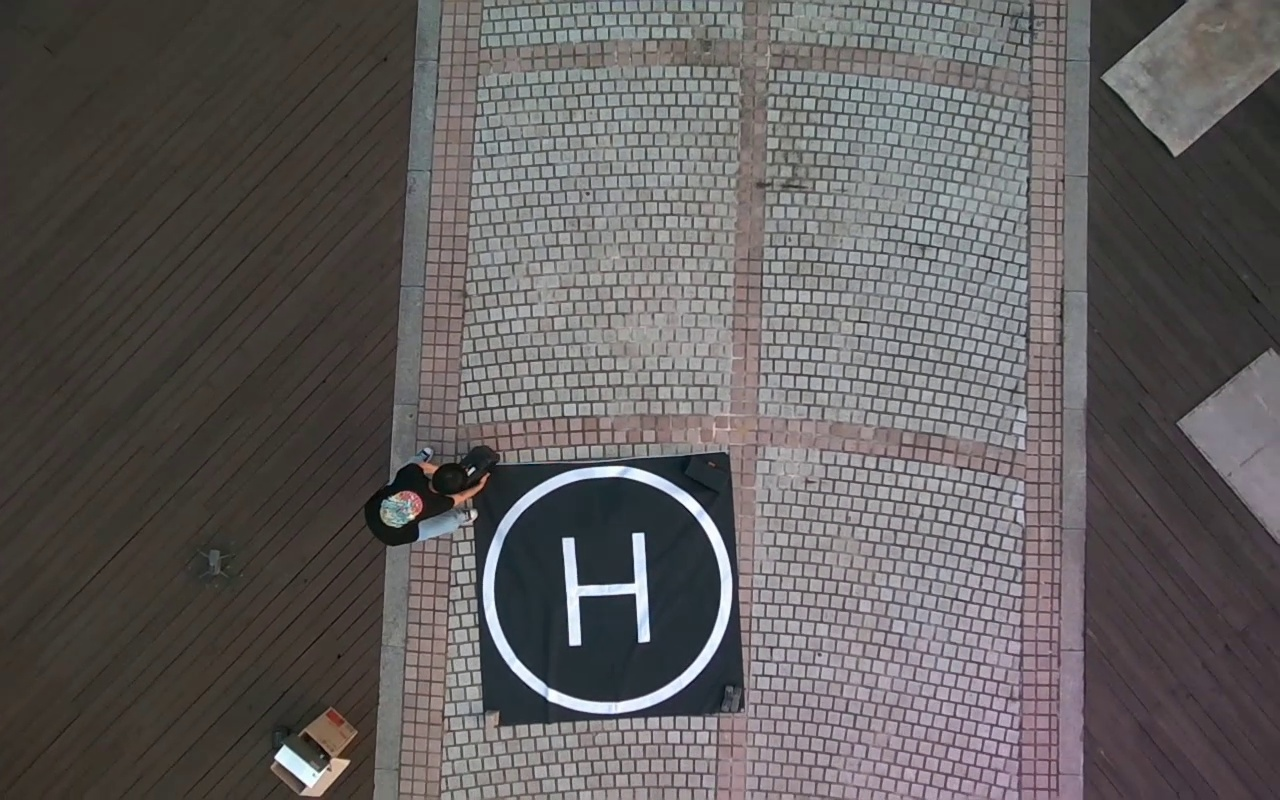H: (558, 529, 654, 645)
heliport: (481, 465, 733, 712)
